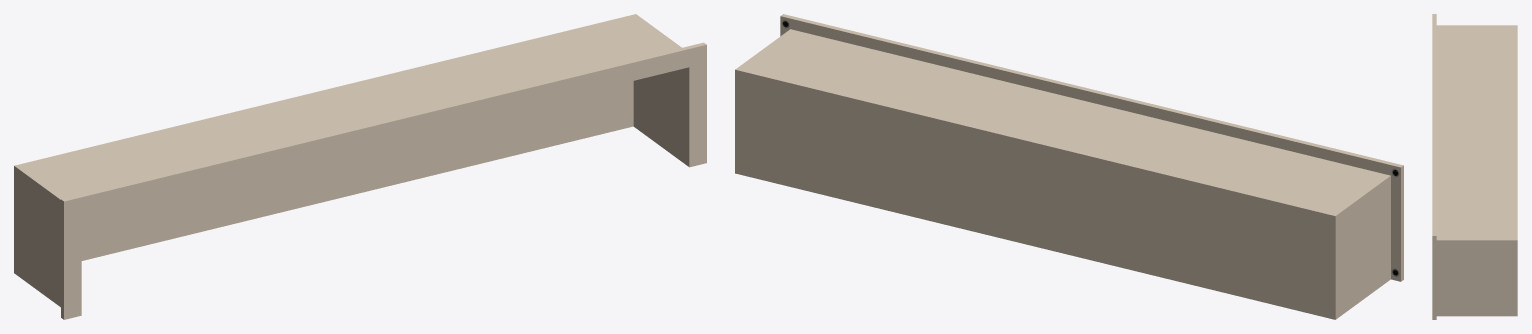
3 views of the same model, side by side, from view 1: azimuth 30°, elevation 25°; view 2: azimuth 150°, elevation 25°; view 3: azimuth 270°, elevation 25° (orthographic). The views are drawn at different scales.
Parts seen in each view (by area): view 1: zahoban:pCube2; view 2: zahoban:pCube2; view 3: zahoban:pCube2.
Boxes of the visible parts, bbox=[...] form: zahoban:pCube2: bbox=[14, 14, 706, 319]; zahoban:pCube2: bbox=[735, 14, 1403, 319]; zahoban:pCube2: bbox=[1432, 14, 1517, 319].
Bounding box in the file's own units: 281 × 49.53 × 45.82.
Materials: 1 (1 with a texture image).
